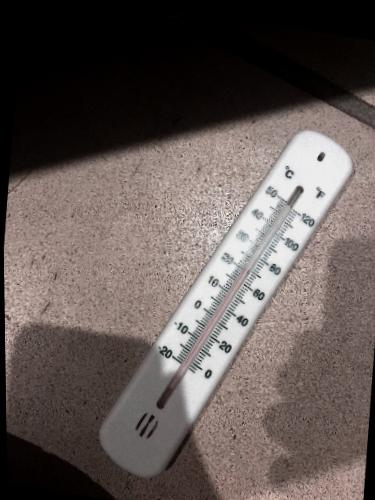thermo: (97, 124, 365, 480)
